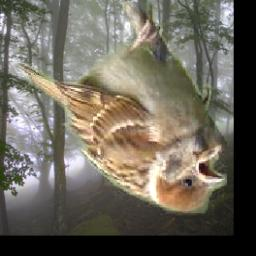Sparrow: (17, 2, 226, 215)
